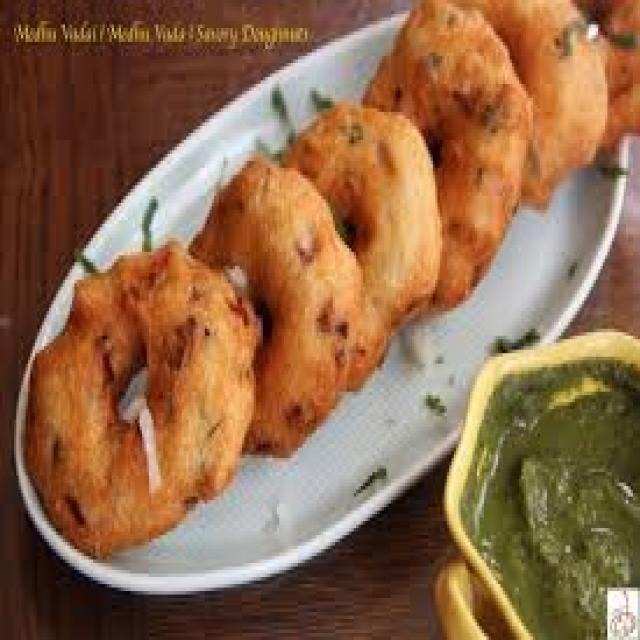MEDU VADA: (24, 240, 254, 553), (368, 0, 537, 309), (184, 162, 360, 457), (286, 103, 447, 402), (471, 0, 609, 205)
